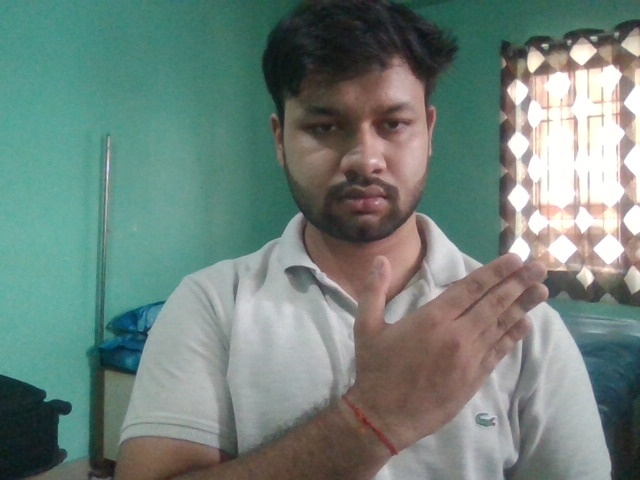Please: (345, 251, 555, 452)
